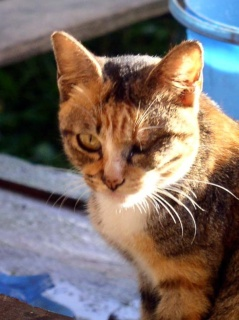Cat: (44, 30, 239, 320)
